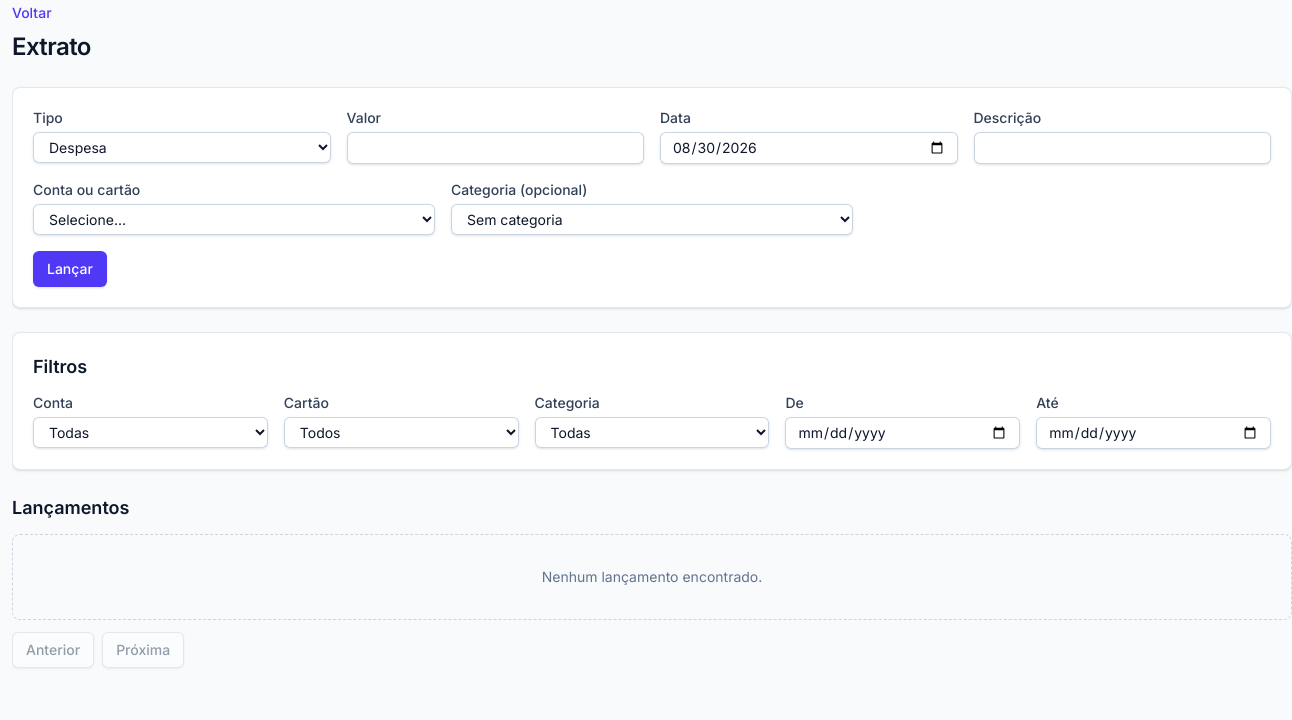
Test: TransactionsPage › edits a transaction description
The width and height of the screenshot is (1292, 720).
Type "20" into the number field labelled "Valor" at (495, 148), box left=346, top=132, right=644, bottom=164
Type "Original" into the field labelled "Descrição" at (1122, 148), box left=974, top=132, right=1271, bottom=164
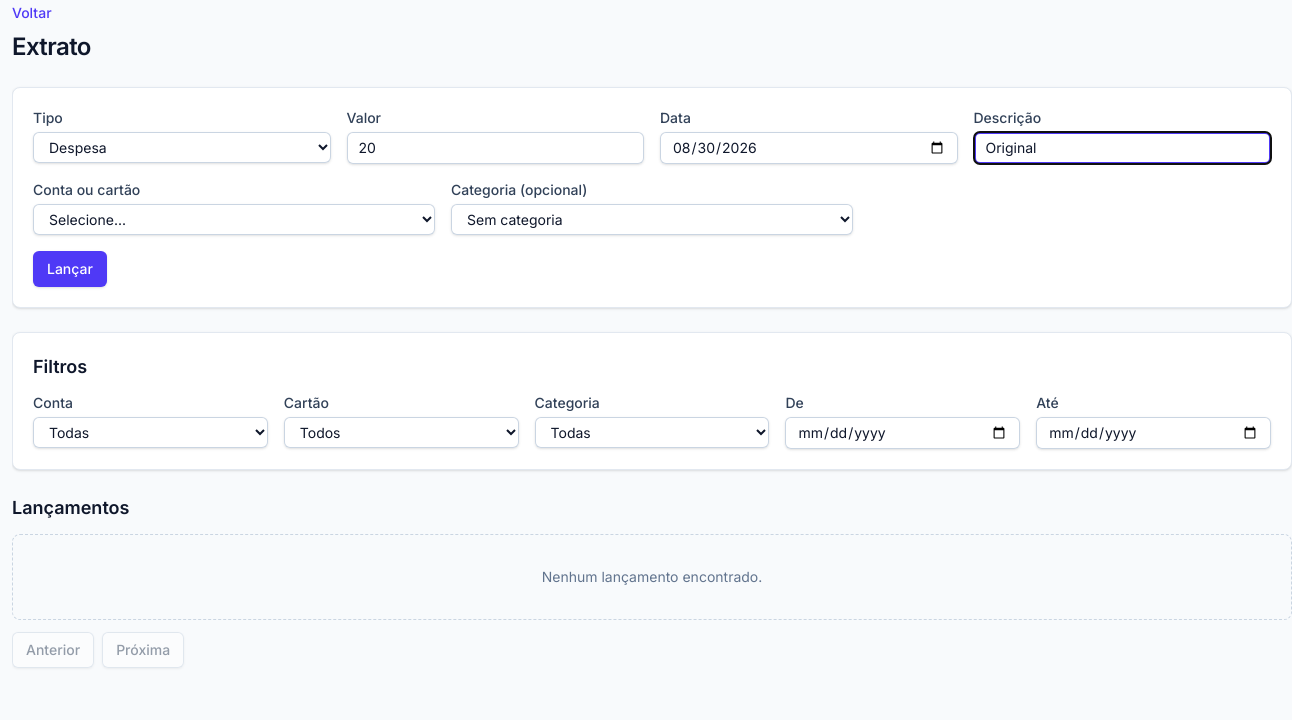
Select "Conta Editar" in the dropdown labelled "Conta ou cartão" at (234, 220), box left=33, top=204, right=435, bottom=235
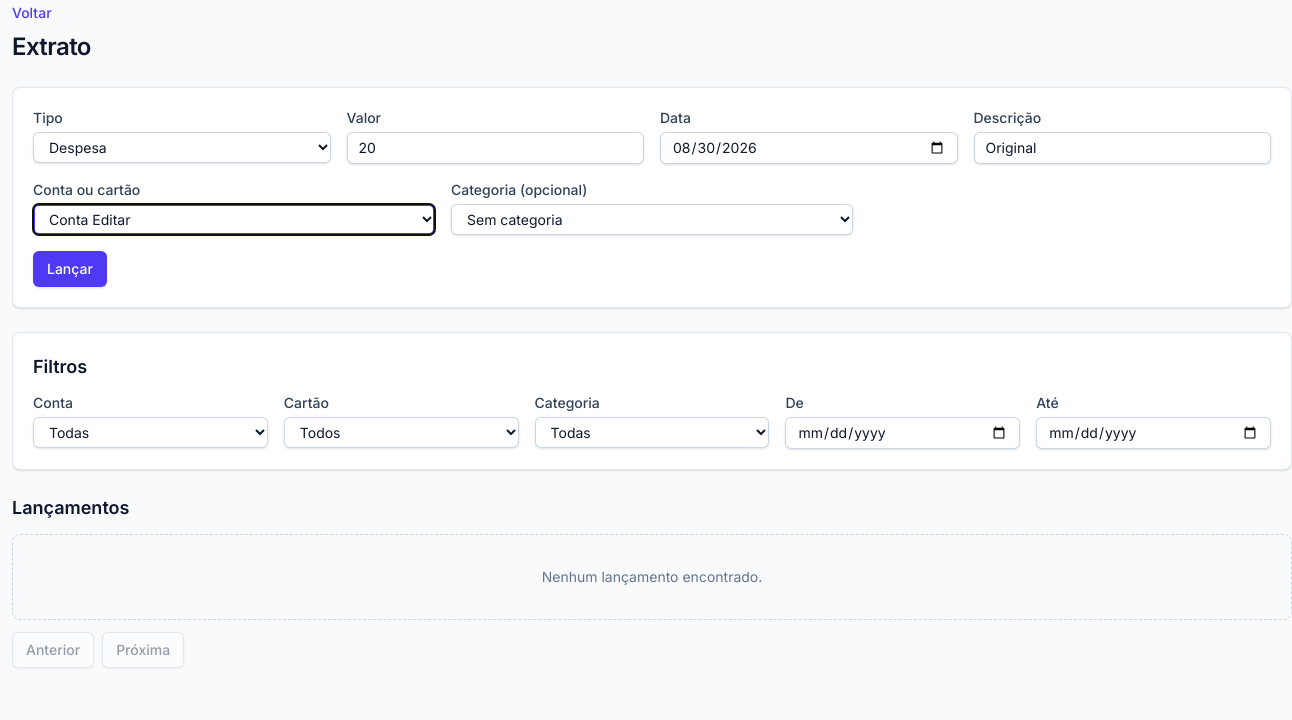
Click the button "Lançar" at (70, 269), box left=33, top=251, right=107, bottom=287
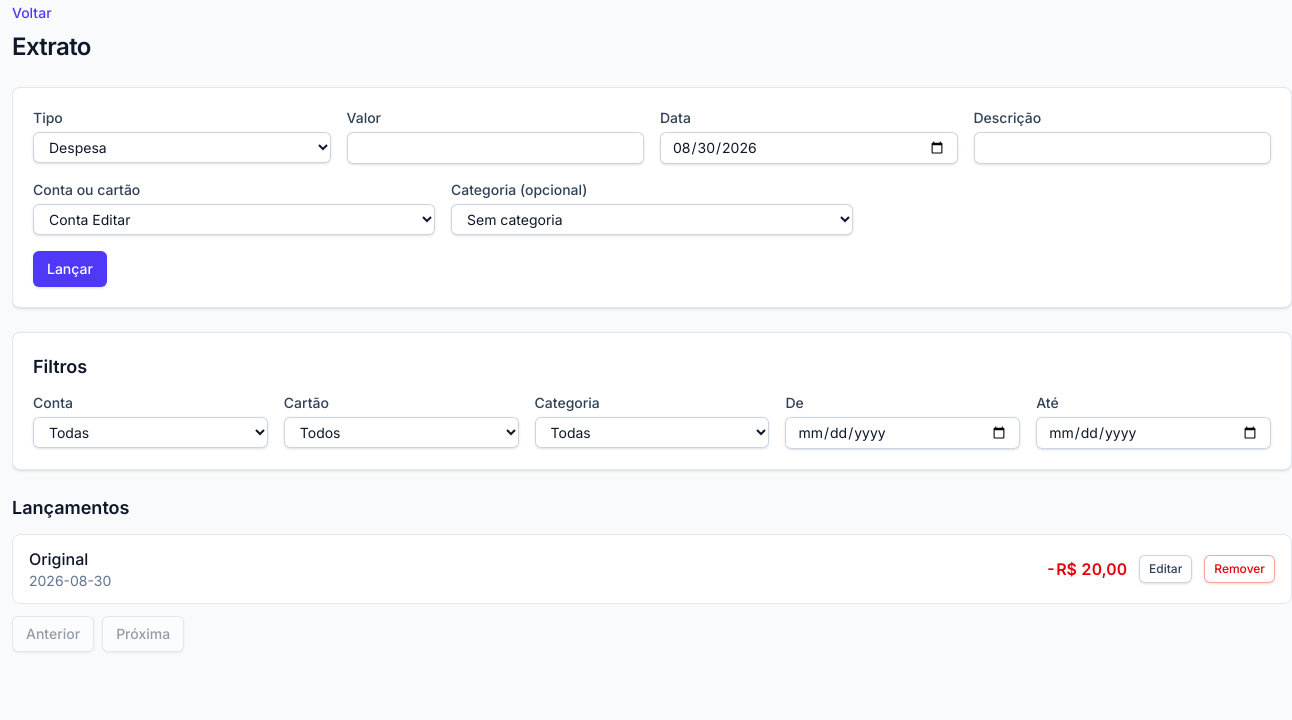
Now the text "Original" is shown, box left=29, top=549, right=88, bottom=569
Click the button "Editar" at (1166, 569), box left=1139, top=555, right=1192, bottom=583
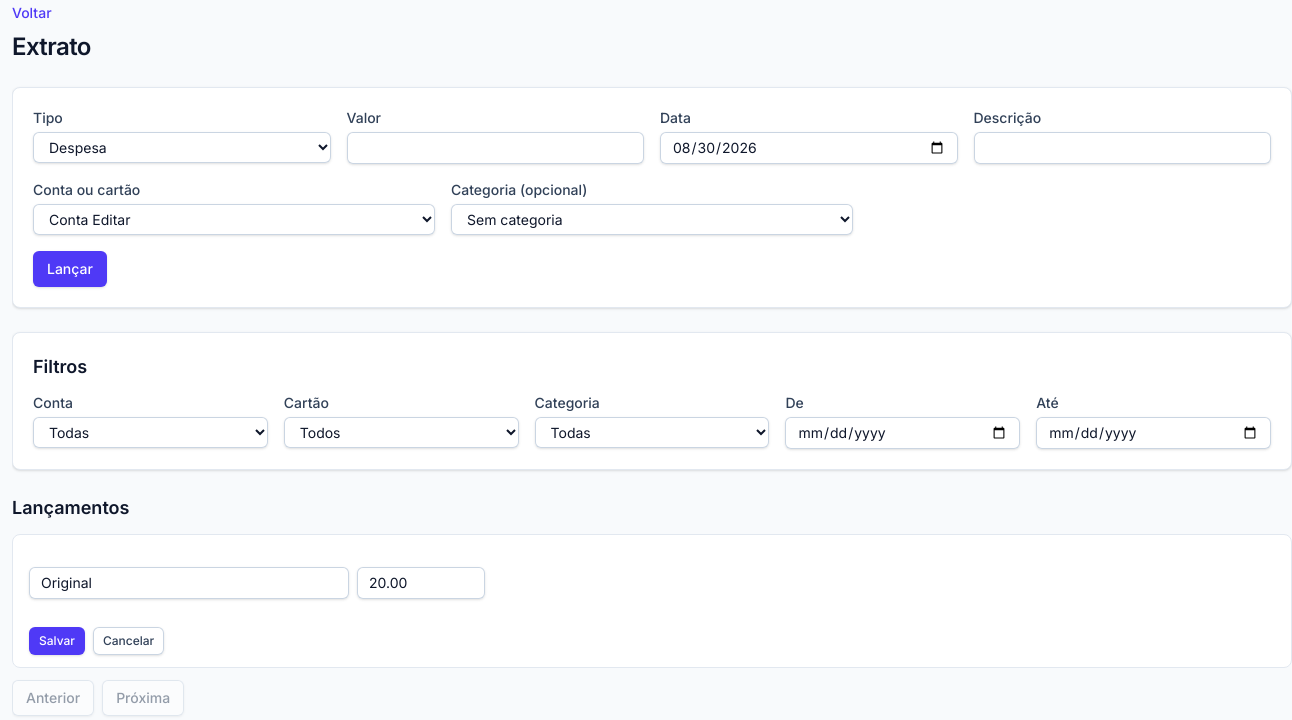
Replace the text in the field named "Descrição de Original" with "Atualizado" at (189, 583), box left=29, top=567, right=349, bottom=599
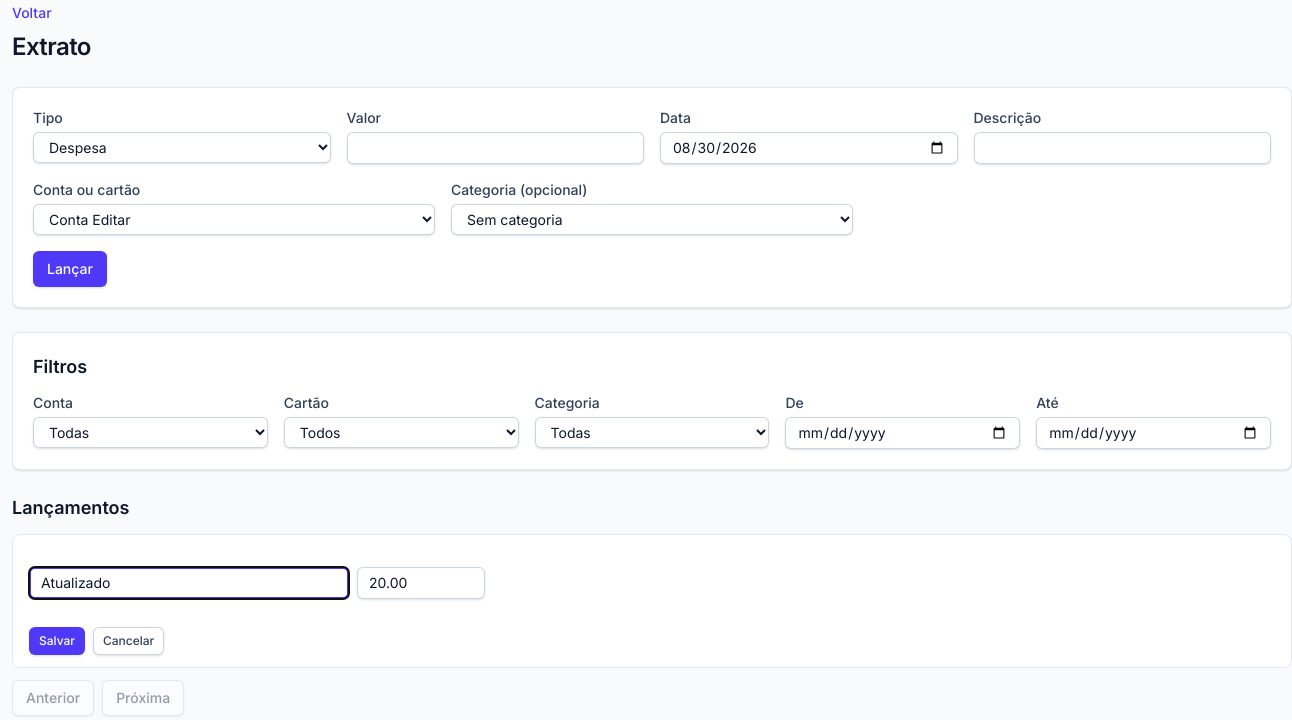
Click the button "Salvar" at (57, 641), box left=29, top=627, right=85, bottom=655
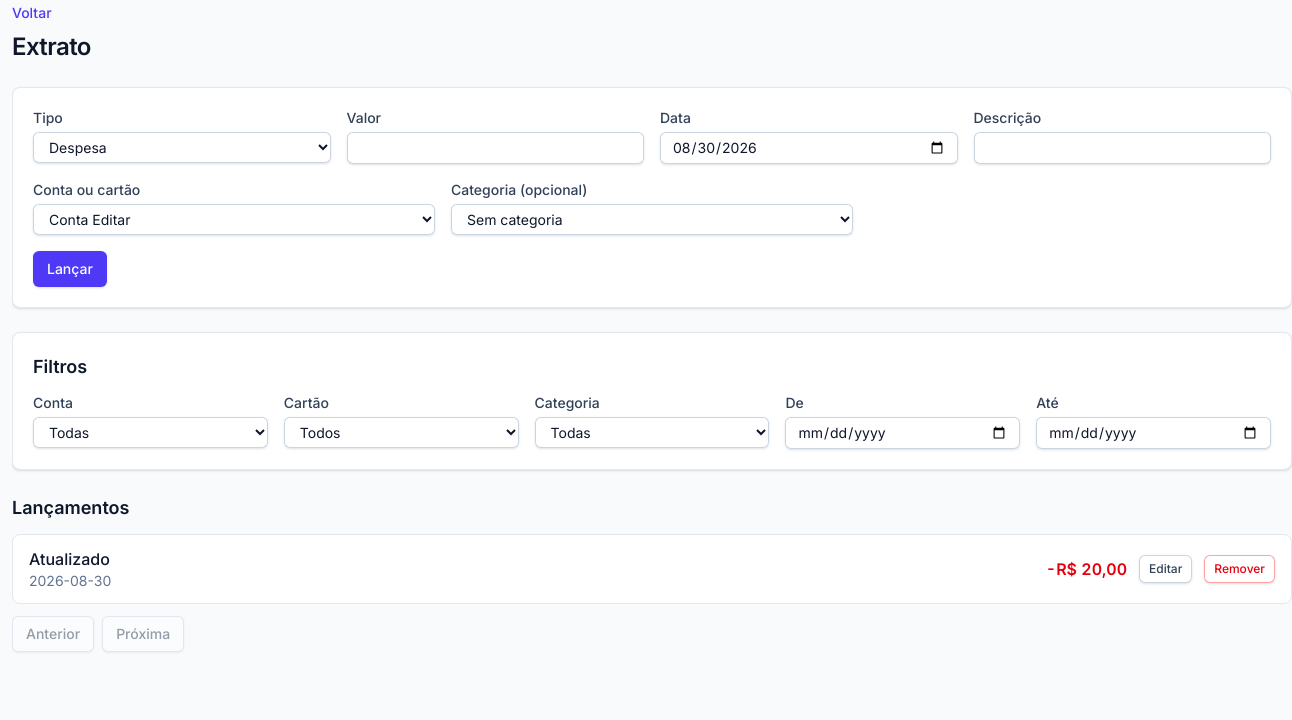
Now the text "Atualizado" is shown, box left=29, top=547, right=111, bottom=571
